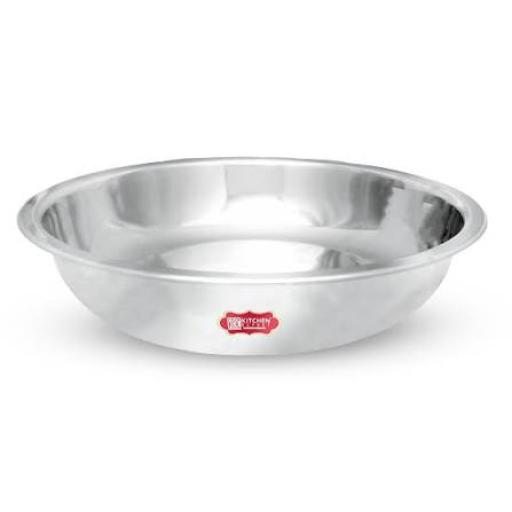Bowl: (18, 158, 485, 355)
